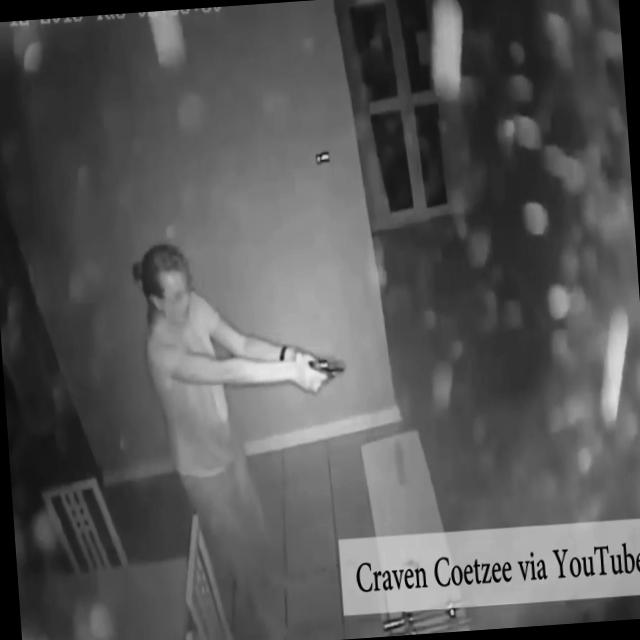gun: (289, 337, 348, 403)
person with a gun: (132, 230, 355, 518)
